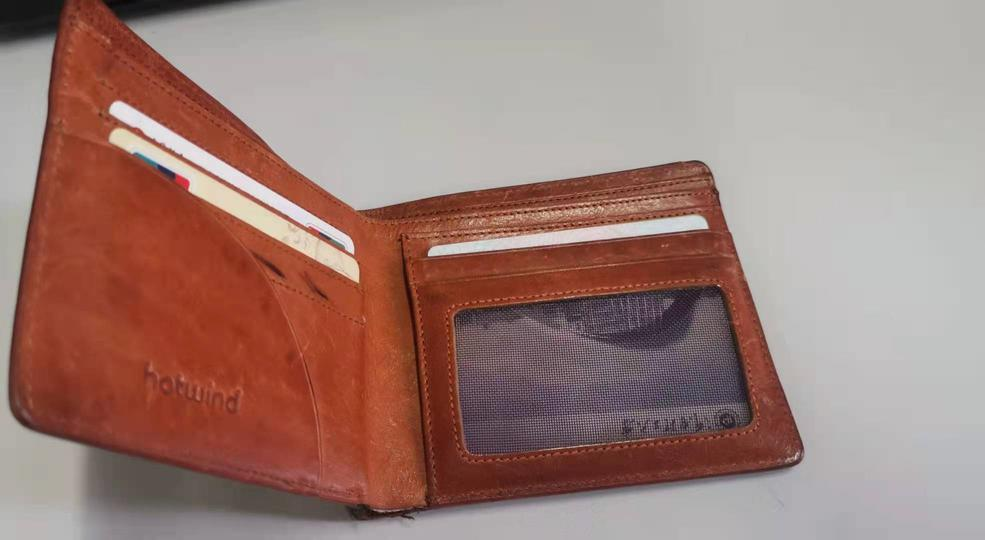wallet: (23, 10, 811, 529)
